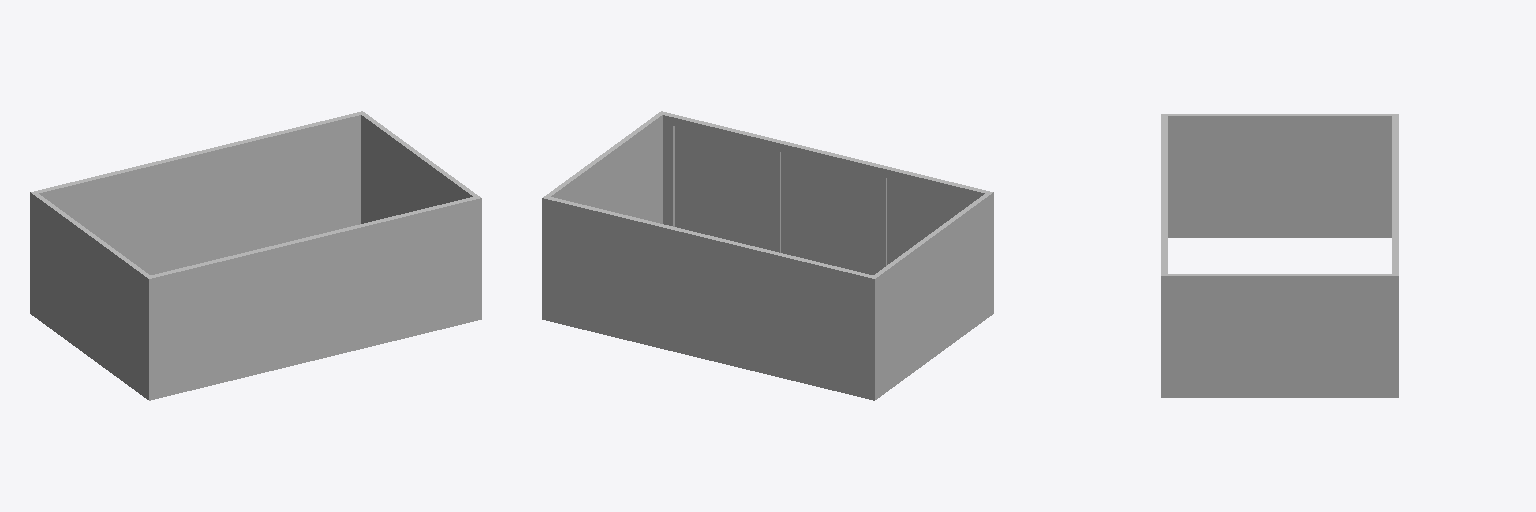
File: walls.obj
3 views of the same model, side by side, from view 1: azimuth 30°, elevation 25°; view 2: azimuth 150°, elevation 25°; view 3: azimuth 270°, elevation 25° (orthographic).
Parts seen in each view (by area): view 1: Cube.001; view 2: Cube.001; view 3: Cube.001.
Part boxes in pixels (bbox=[...]): Cube.001: bbox=[30, 111, 481, 400]; Cube.001: bbox=[542, 111, 993, 400]; Cube.001: bbox=[1161, 114, 1398, 397].
Bounding box in the file's own units: 238 × 83.07 × 147.